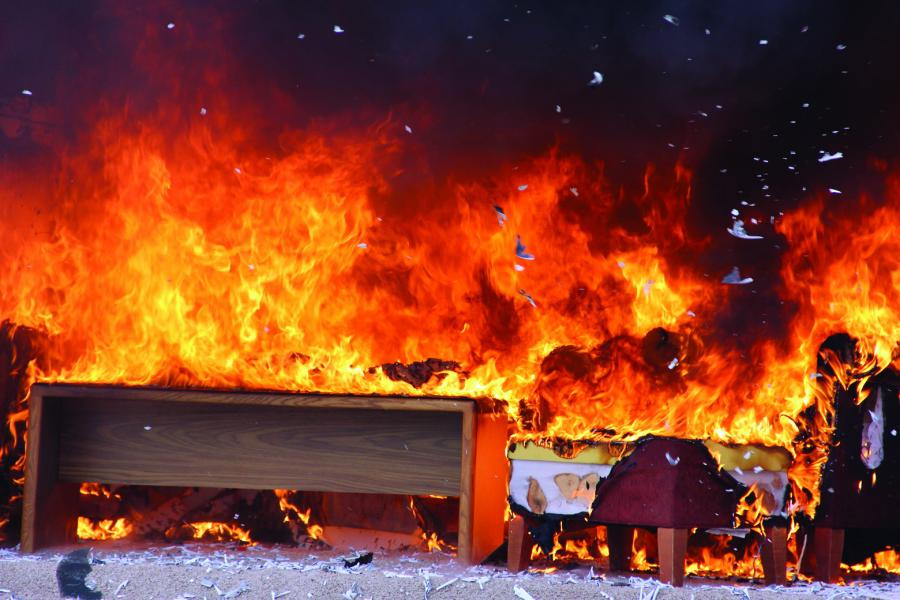fire: (15, 77, 897, 577)
